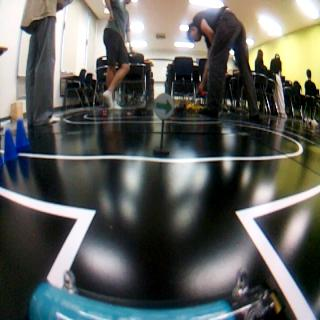right: (155, 92, 173, 117)
